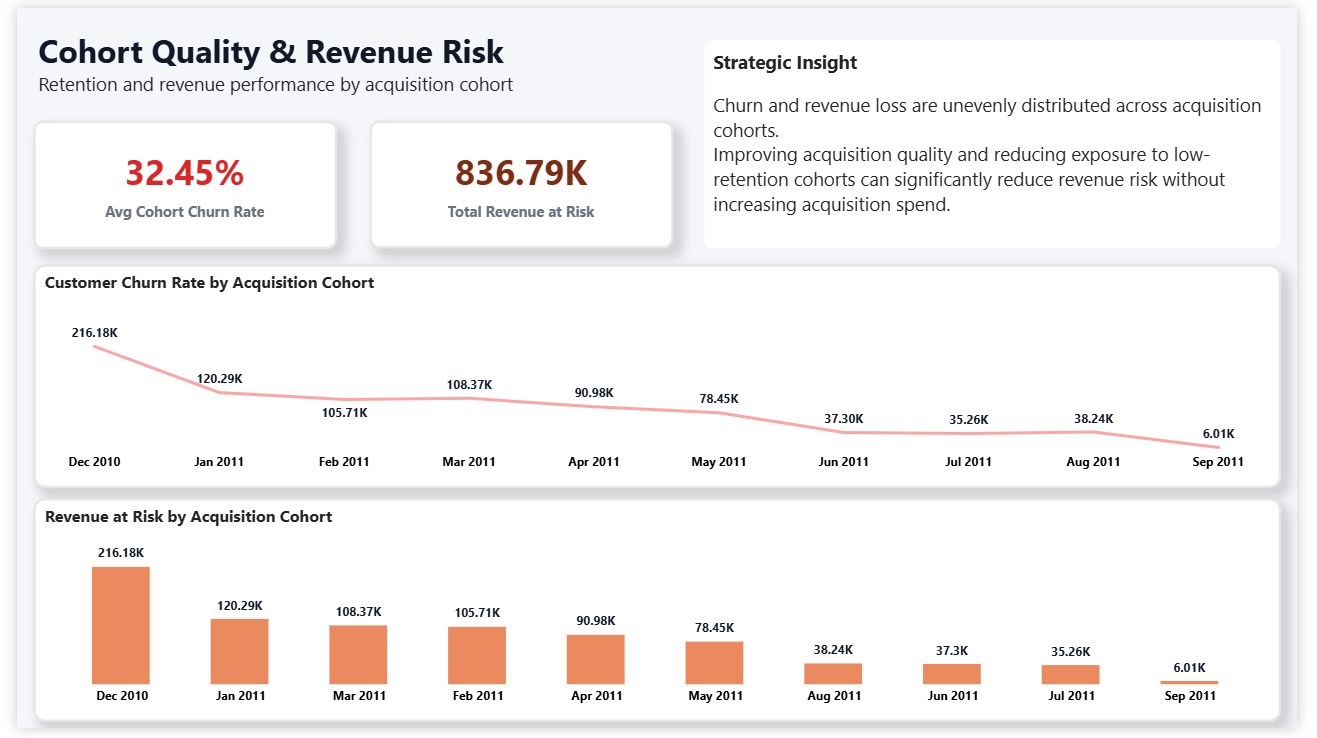

This screenshot's page, from the dashboard's own definition file:
{"tool":"powerbi","page":{"name":"Cohort Quality & Revenue Risk","canvas":[1280,720],"ordinal":2},"visuals":[{"type":"cardVisual","fields":{"Data":["_Measures.Avg Churn Rate"]},"box":[16,112,304,129],"z":0},{"type":"cardVisual","fields":{"Data":["_Measures.Revenue at Risk"]},"box":[352,112,304,128],"z":1000},{"type":"textbox","box":[16,16,512,80],"z":2000},{"type":"lineChart","title":"Customer Churn Rate by Acquisition Cohort","fields":{"Series":["final_churn_powerbi.Churn Status"],"Y":["_Measures.Revenue at Risk"],"Category":["final_churn_powerbi.MonthYear"]},"box":[16,256,1248,224],"z":3000},{"type":"textbox","box":[688,32,576,208],"z":4000},{"type":"columnChart","title":"Revenue at Risk by Acquisition Cohort","fields":{"Category":["final_churn_powerbi.MonthYear"],"Y":["_Measures.Revenue at Risk"]},"box":[16,490,1248,224],"z":5000}]}

Visuals, with their boxes in screenshot pixels (x1, y1, x2, y2), scaled from the page's 1280x720 canvas onto the 1317x738 screenshot:
cardVisual - _Measures.Avg Churn Rate: (16,115,329,247)
cardVisual - _Measures.Revenue at Risk: (362,115,675,246)
textbox: (16,16,543,98)
"Customer Churn Rate by Acquisition Cohort" lineChart: (16,262,1301,492)
textbox: (708,33,1301,246)
"Revenue at Risk by Acquisition Cohort" columnChart: (16,502,1301,732)
